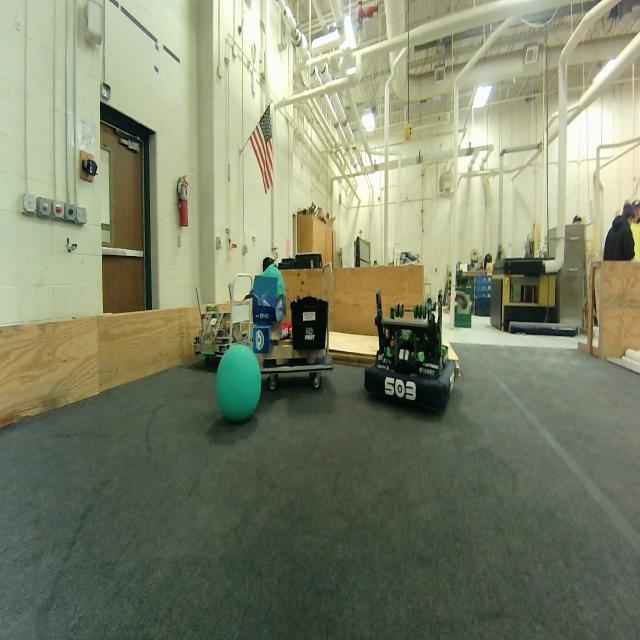algae: (213, 340, 266, 424)
